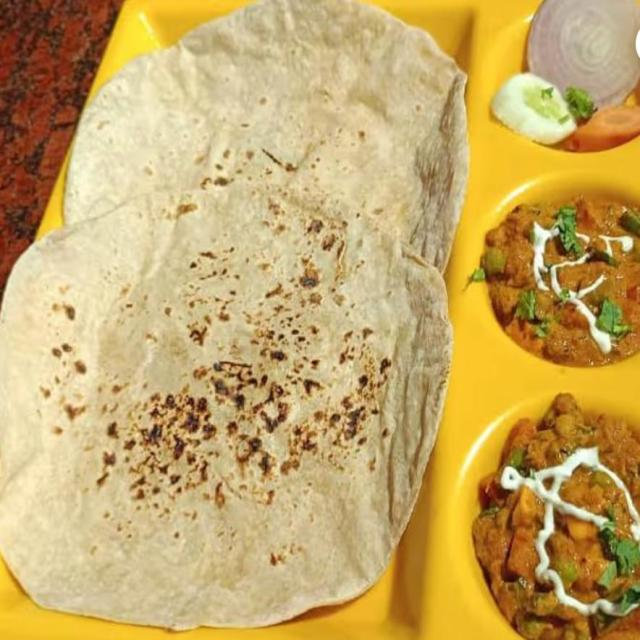CHAPATHI: (0, 5, 479, 636)
KURMA: (457, 393, 639, 639), (472, 178, 640, 365)
